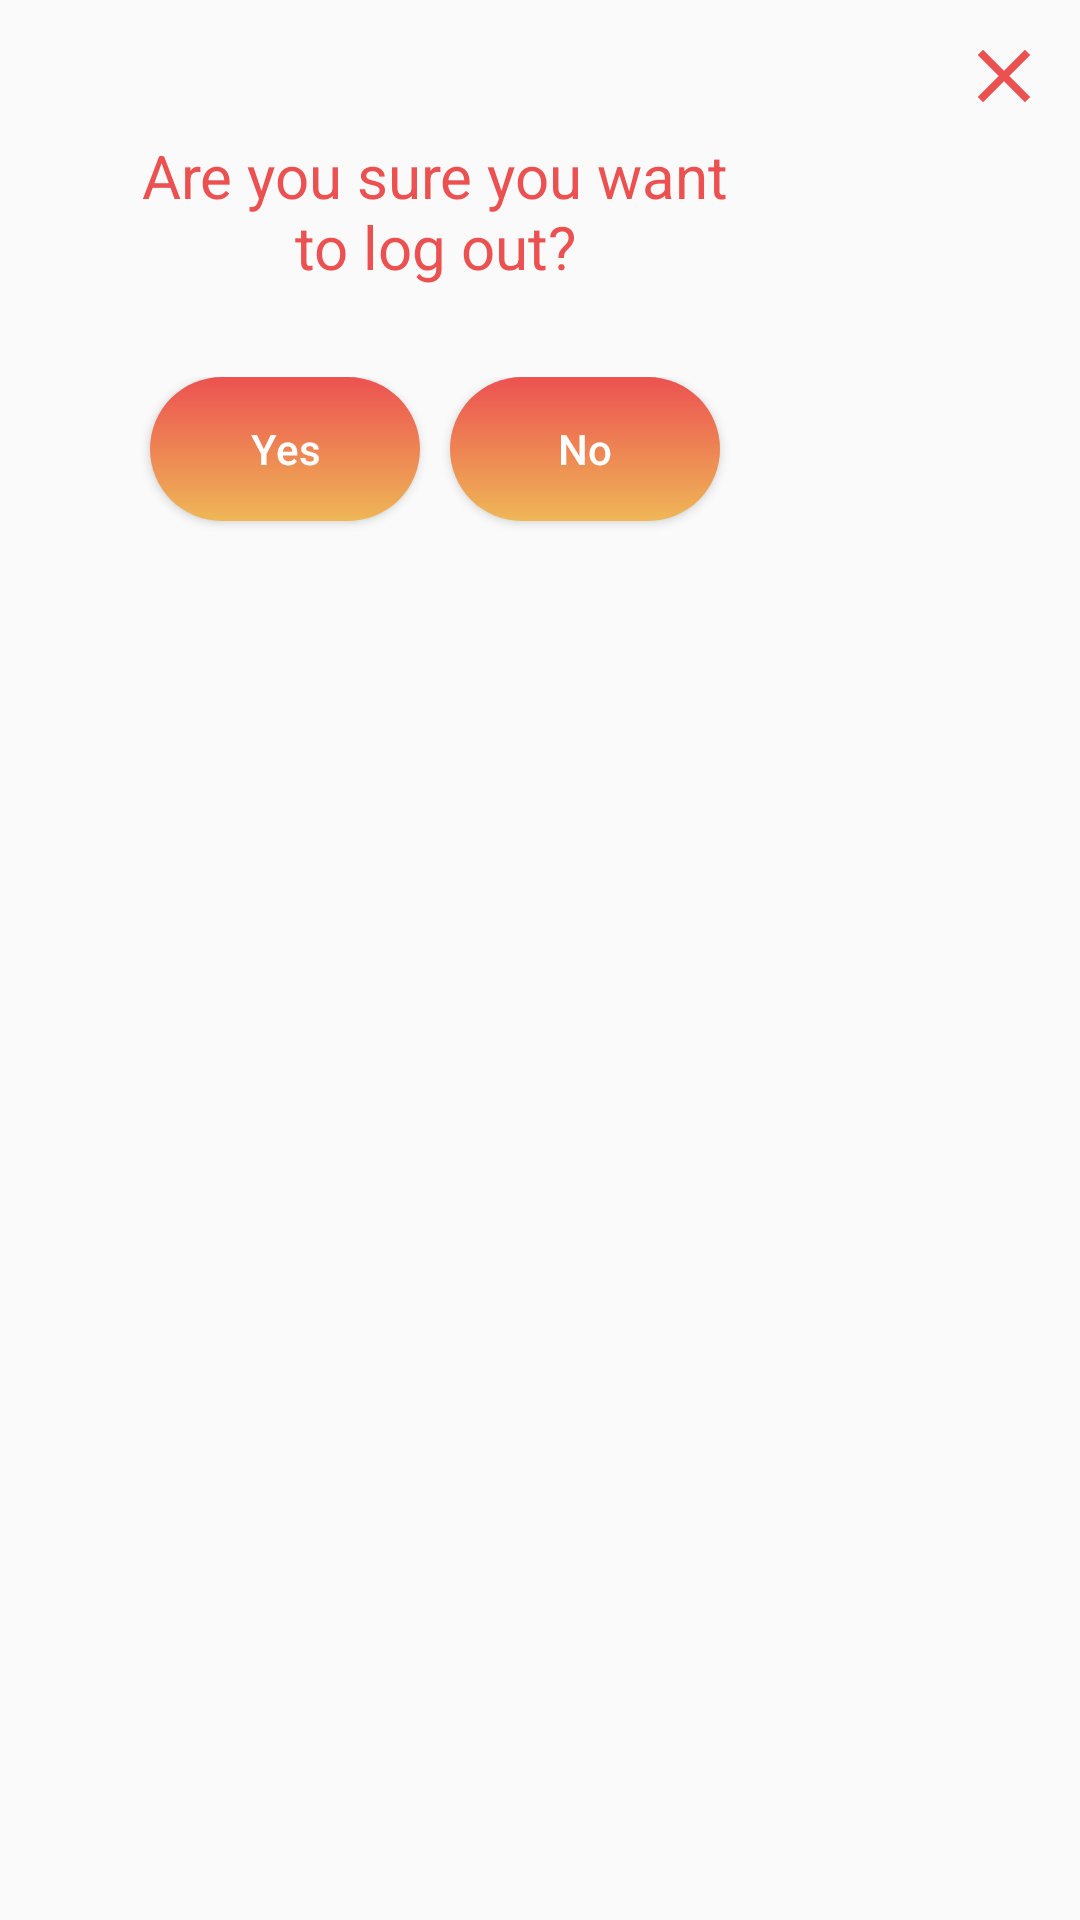

Screen size 1080 × 1920. Icon name, then its box in pixels as {"x1": x1, "y1": y1, "x2": x2, "y2": y2}:
close: {"x1": 978, "y1": 50, "x2": 1030, "y2": 102}
